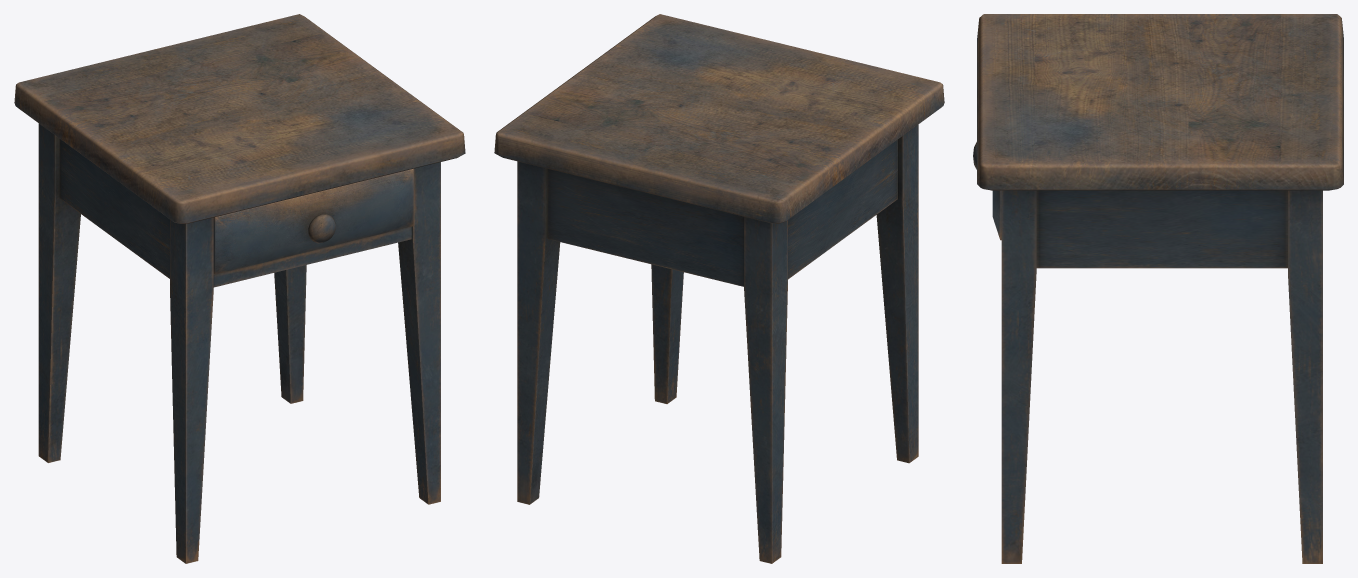
Rendered from painted_wooden_nightstand.glb.
3 renders of one model, left to right at view 1: azimuth 30°, elevation 25°; view 2: azimuth 150°, elevation 25°; view 3: azimuth 270°, elevation 25°, orthographic. The views are drawn at different scales.
Visible parts, largest first — view 1: body, drawer; view 2: body; view 3: body, drawer.
Part boxes in pixels (x1=…): body: x1=14, y1=14, x2=465, y2=563; drawer: x1=213, y1=168, x2=413, y2=274; body: x1=494, y1=14, x2=944, y2=563; body: x1=977, y1=14, x2=1343, y2=563; drawer: x1=973, y1=142, x2=1001, y2=240.
Size of the model in its own units: 0.5046 by 0.6155 by 0.5087.
1 material, 1 textured.
